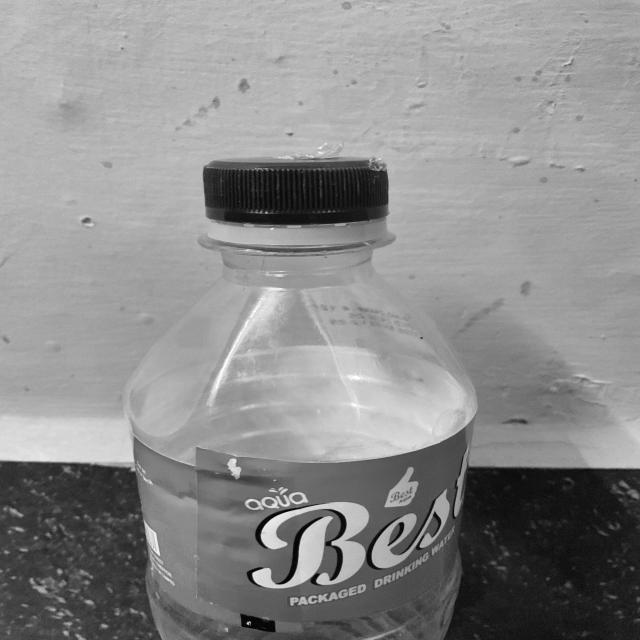Good-cap-Df0S: (199, 152, 397, 252)
